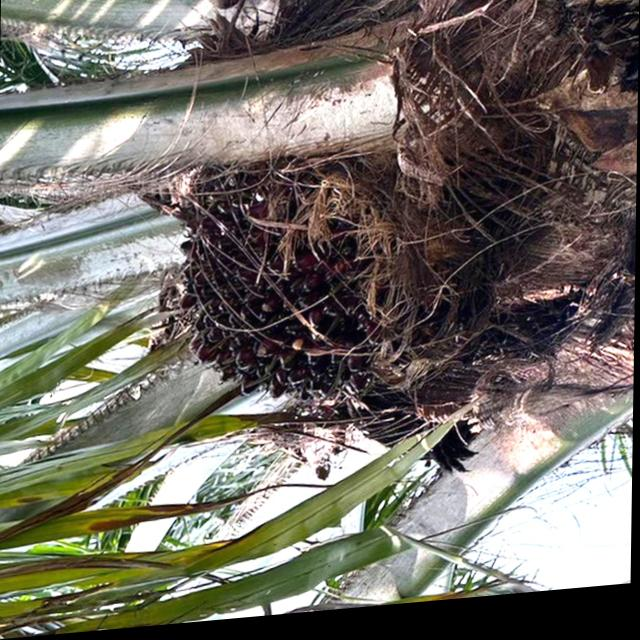ripe: (155, 194, 385, 433)
